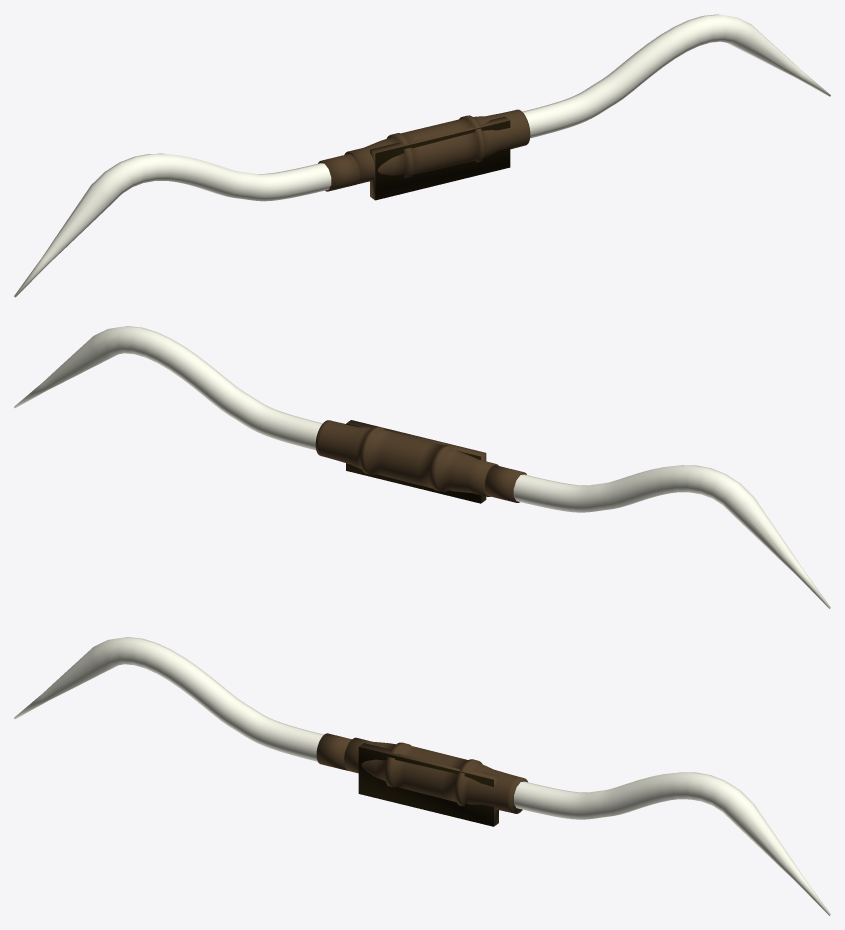
File: horns.fbx
The picture shows the model from 3 angles, top to bottom: view 1: azimuth 30°, elevation 25°; view 2: azimuth 150°, elevation 25°; view 3: azimuth 330°, elevation 25°; orthographic projection.
Visible parts, largest first — view 1: horns; view 2: horns; view 3: horns.
Part boxes in pixels (box(x1,y1,x2,y2)): horns: box(14, 14, 830, 297); horns: box(14, 326, 830, 608); horns: box(14, 637, 830, 915).
Size of the model in its own units: 36.27 by 4.76 by 1.87.
